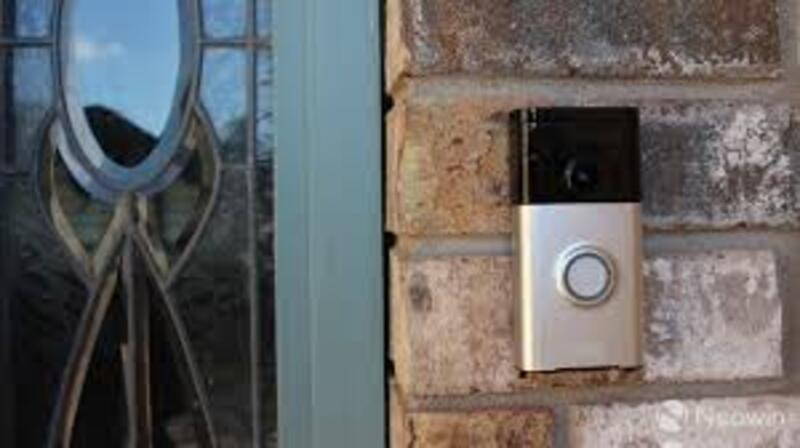doorbell: (505, 99, 647, 388)
